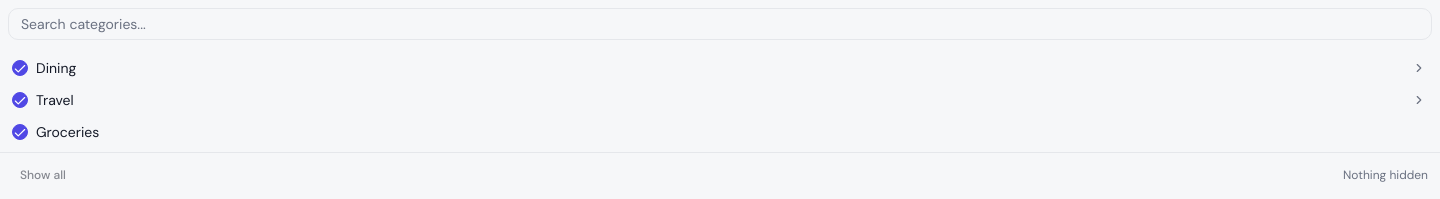
Test: CategoryFilterList › opens a category whose sub matched the search
This screenshot has width=1440, height=199.
Type "cafes" into the field with placeholder "Search categories..." at (720, 24), box [8,8,1432,40]
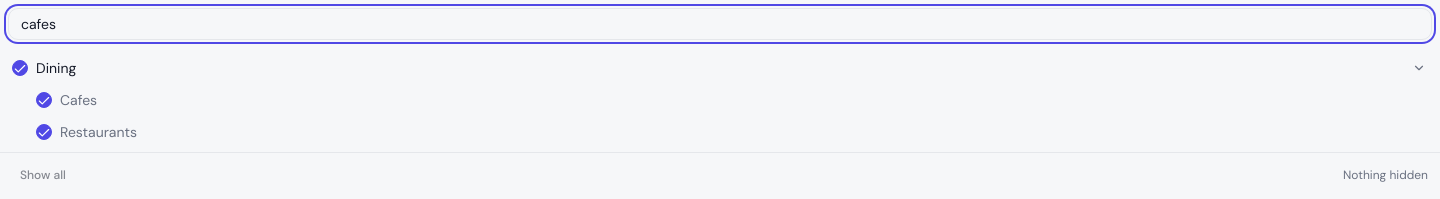
expect the checkbox named "Cafes" next to "Cafes" is shown: met, box [36,92,52,108]
